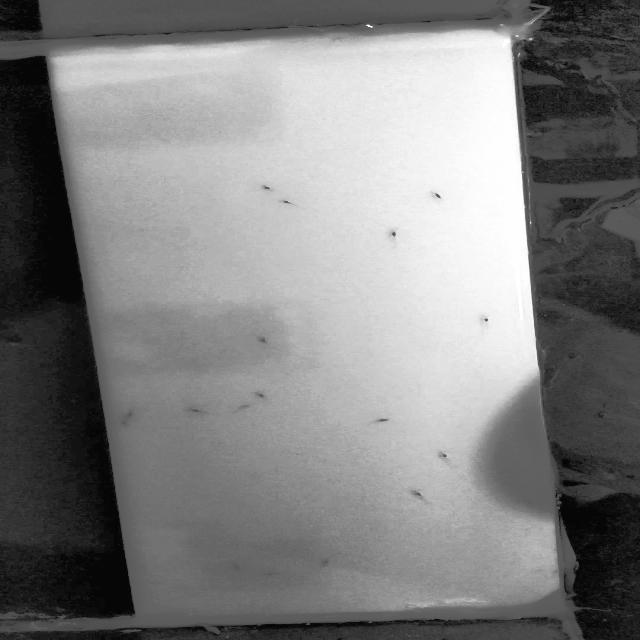shrimp: (169, 404, 221, 424), (236, 327, 279, 350), (372, 226, 426, 244), (467, 308, 506, 330), (412, 189, 464, 205), (242, 386, 276, 408), (370, 416, 405, 434), (246, 180, 278, 196), (273, 196, 305, 212), (315, 555, 343, 570), (221, 561, 254, 573), (405, 488, 431, 502), (431, 452, 462, 462), (512, 497, 540, 508), (260, 570, 290, 580), (117, 405, 138, 419), (115, 420, 135, 428)
